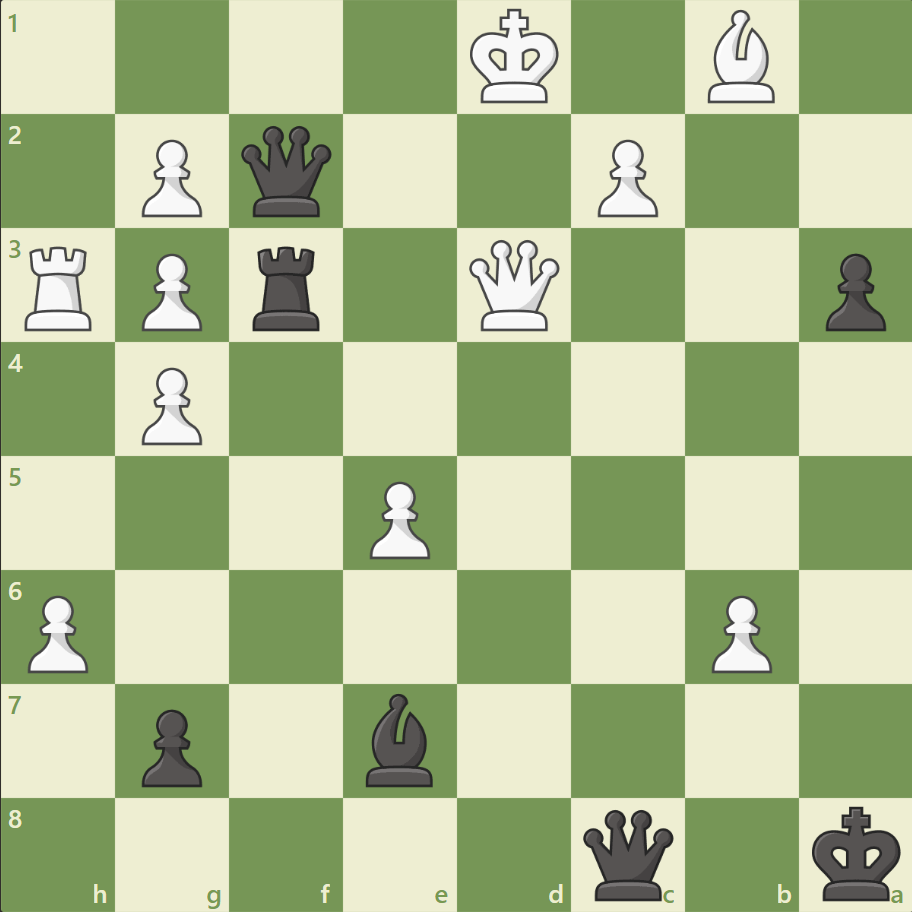B: (698, 6, 782, 109)
K: (465, 4, 565, 112)
P: (701, 586, 776, 677), (20, 586, 95, 677), (133, 359, 208, 450), (133, 246, 208, 337), (133, 132, 208, 223), (361, 473, 435, 564), (588, 132, 662, 223)
Q: (464, 236, 563, 335)
R: (19, 239, 102, 336)
b: (358, 687, 442, 790)
k: (806, 798, 906, 906)
p: (133, 700, 208, 791), (815, 246, 889, 337)
q: (237, 122, 336, 222), (578, 804, 677, 903)
r: (246, 239, 329, 336)
